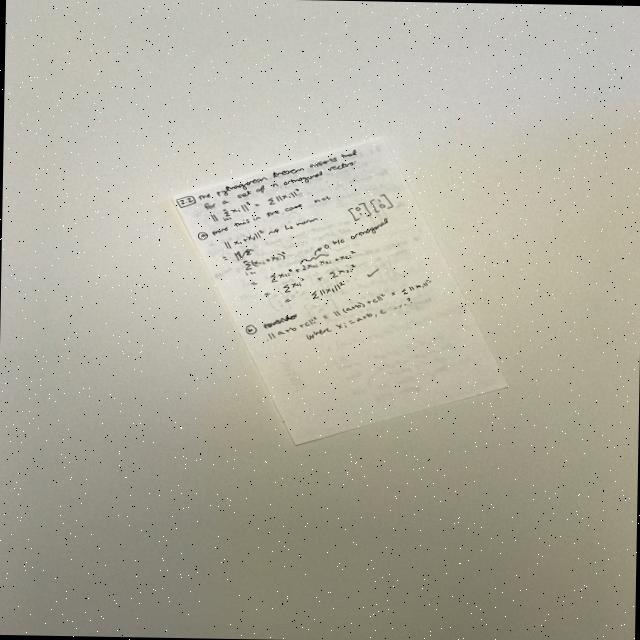paper: (165, 132, 514, 450)
